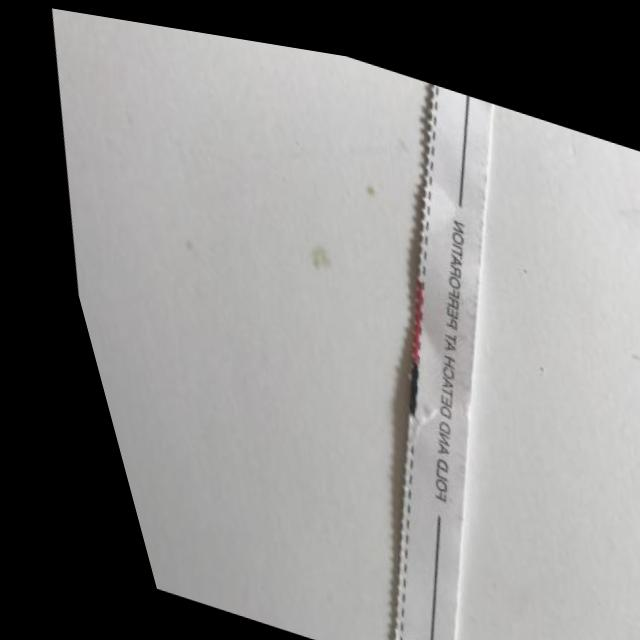paper: (107, 14, 640, 640)
